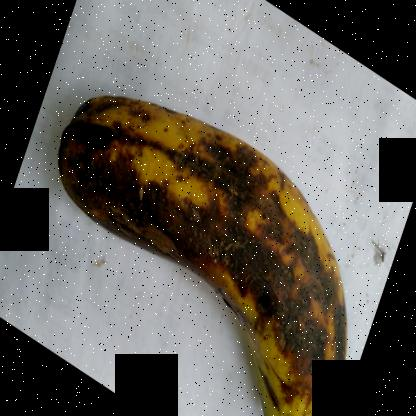rotten: (46, 80, 367, 415)
